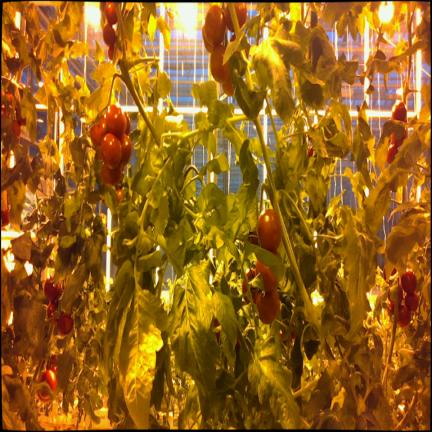MainStem: (254, 115, 347, 391), (115, 3, 161, 145)
tomato: (257, 209, 282, 252), (204, 5, 225, 46), (256, 289, 279, 323), (210, 44, 230, 83), (100, 133, 122, 168), (255, 260, 278, 291), (106, 105, 126, 138), (225, 2, 247, 31), (90, 115, 106, 146), (40, 370, 57, 399), (101, 163, 121, 185), (401, 269, 417, 293), (242, 269, 253, 303), (44, 278, 61, 300), (120, 134, 132, 165), (202, 25, 215, 53), (57, 313, 73, 334), (397, 305, 411, 327), (104, 2, 117, 24), (392, 102, 406, 122), (103, 23, 115, 46), (388, 286, 403, 304), (405, 291, 418, 311), (15, 103, 26, 125), (222, 76, 234, 96), (387, 143, 398, 163), (392, 131, 405, 146), (47, 300, 57, 318), (0, 208, 9, 226), (12, 119, 21, 137), (38, 394, 51, 404), (387, 303, 395, 317), (125, 112, 130, 134), (117, 188, 123, 203), (108, 45, 114, 60)
